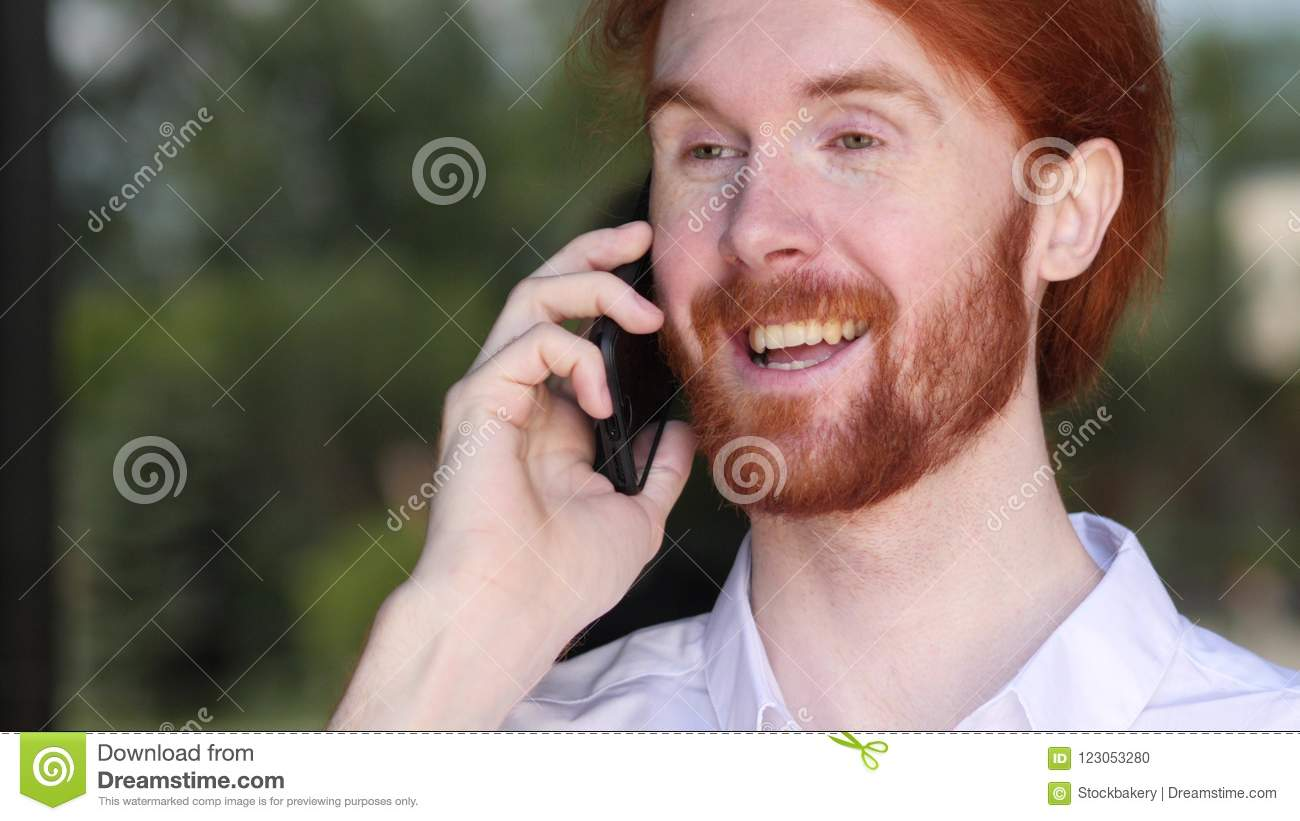phone: (585, 144, 683, 515)
talk: (411, 52, 966, 656)
